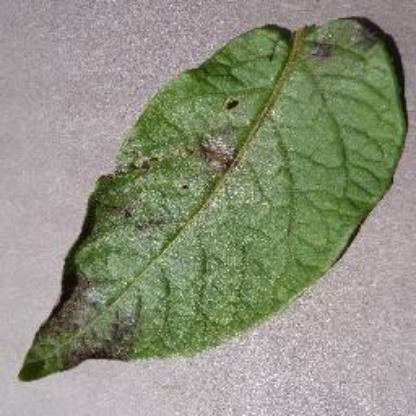Late-Blight: (21, 15, 410, 387)
